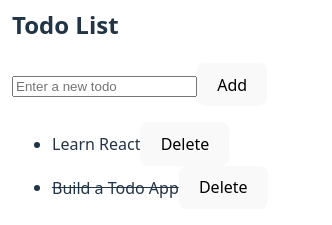
Test: TodoList Component › deletes a todo
The image size is (332, 225).
Click the button with test id "delete-button" next to "Build a Todo App": (223, 187) [179,166,268,209]
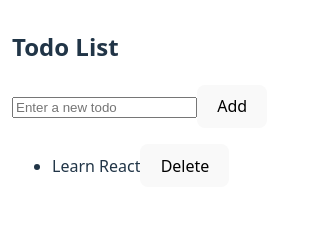
Expected: the list item "Build a Todo App" is gone
